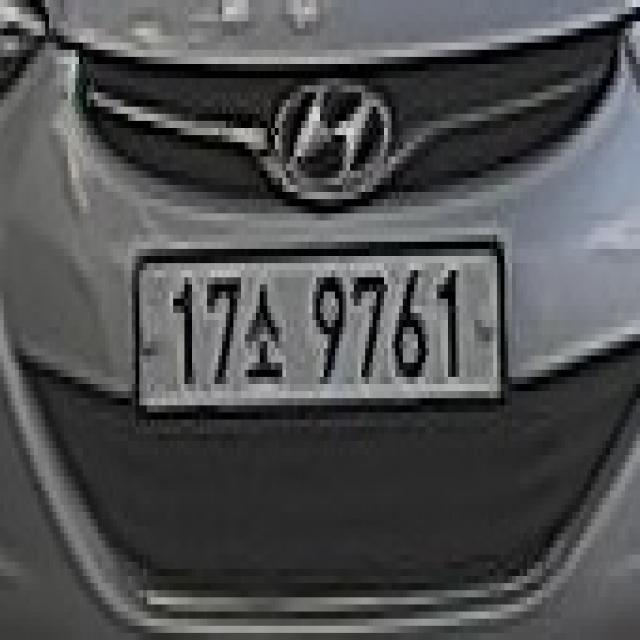1: (433, 263, 471, 384), (170, 270, 203, 398)
6: (388, 256, 429, 391)
7: (203, 263, 241, 391), (350, 263, 388, 384)
9: (309, 270, 350, 391)
license_plate: (124, 235, 520, 420)
so: (241, 277, 290, 391)
